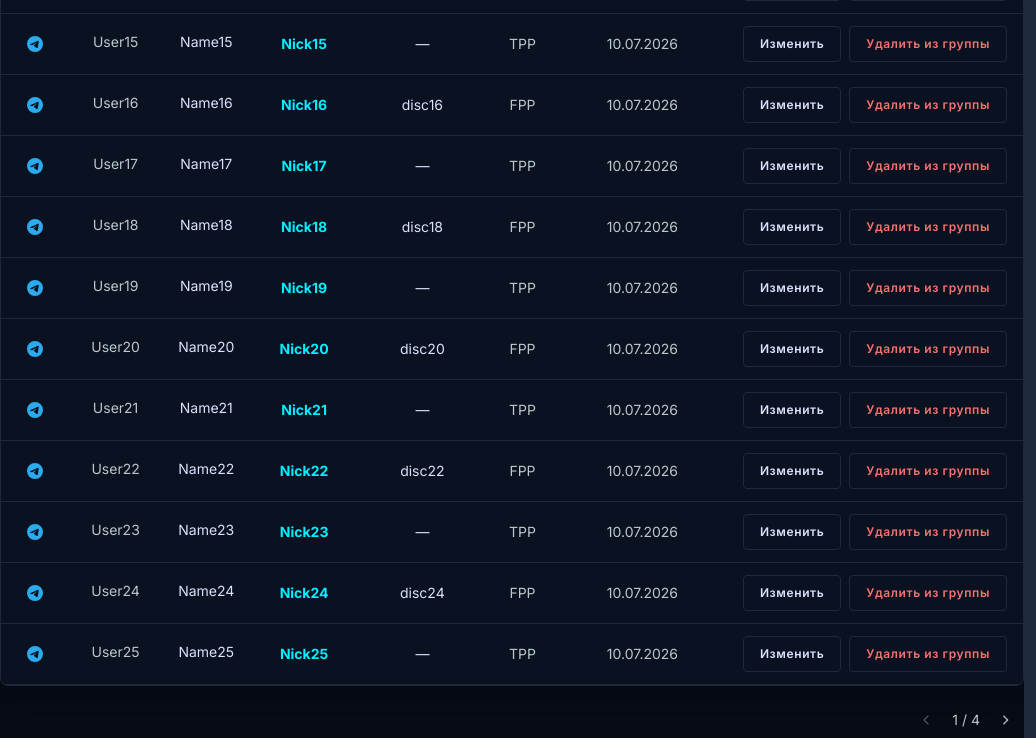
Test: MembersTable › paginates a prod-sized roster of 100 members
(page scrolled)
Step 1. Click the 2nd button named "chevron_right" → (1006, 720), box [988,702,1024,737]
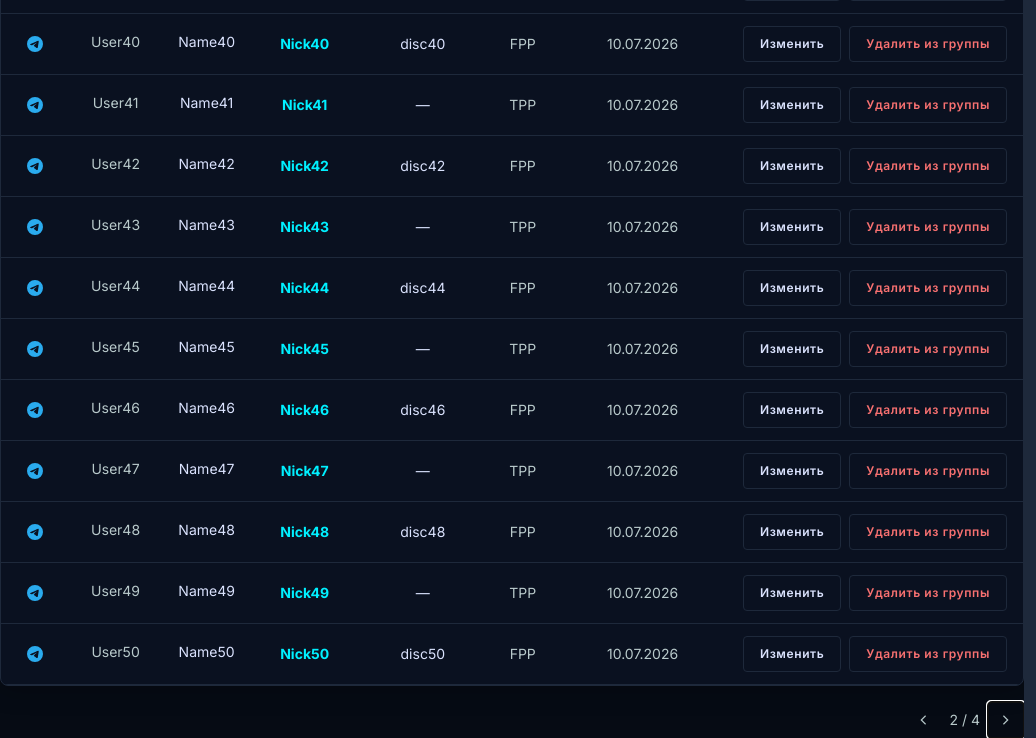
Expected: the text "2 / 4" is shown, [950,710,980,730]
